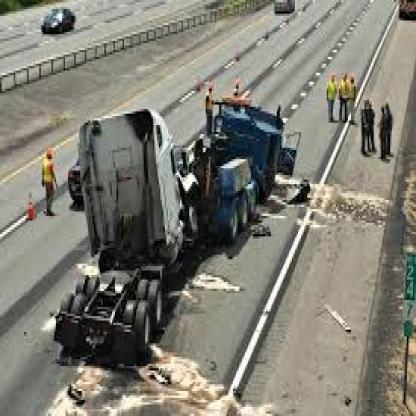accident: (35, 66, 321, 408)
